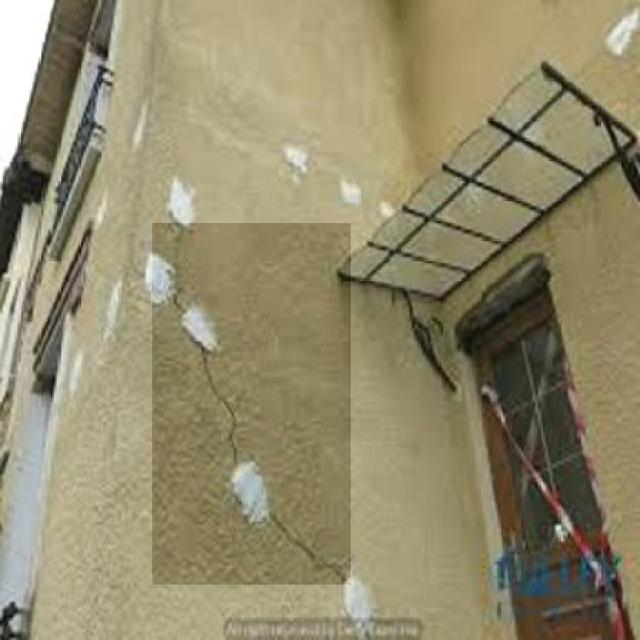Crack: (148, 236, 357, 584)
